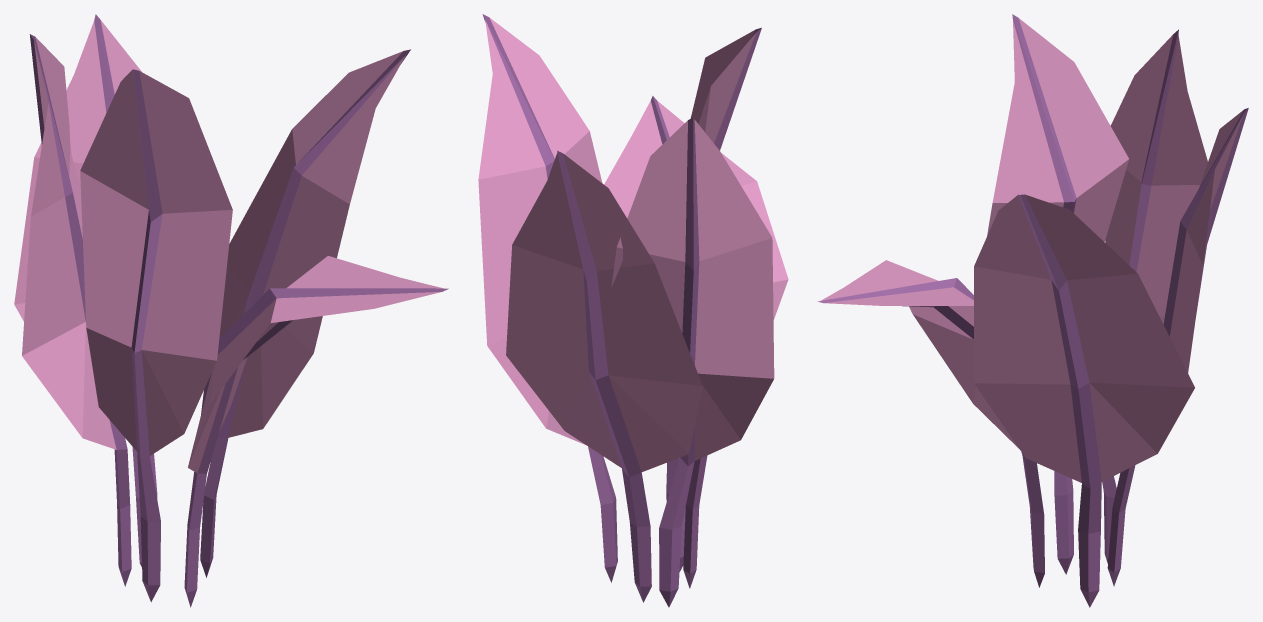
Rendered from Gras_03_Var_01.fbx.
3 renders of one model, left to right at view 1: azimuth 30°, elevation 25°; view 2: azimuth 150°, elevation 25°; view 3: azimuth 270°, elevation 25°, orthographic. The views are drawn at different scales.
Parts seen in each view (by area): view 1: Gras_03_Var_01; view 2: Gras_03_Var_01; view 3: Gras_03_Var_01.
Part boxes in pixels (bbox=[...]): Gras_03_Var_01: bbox=[14, 14, 448, 607]; Gras_03_Var_01: bbox=[478, 14, 788, 607]; Gras_03_Var_01: bbox=[817, 14, 1248, 607].
Bounding box in the file's own units: 0.1619 × 0.2239 × 0.1423.
